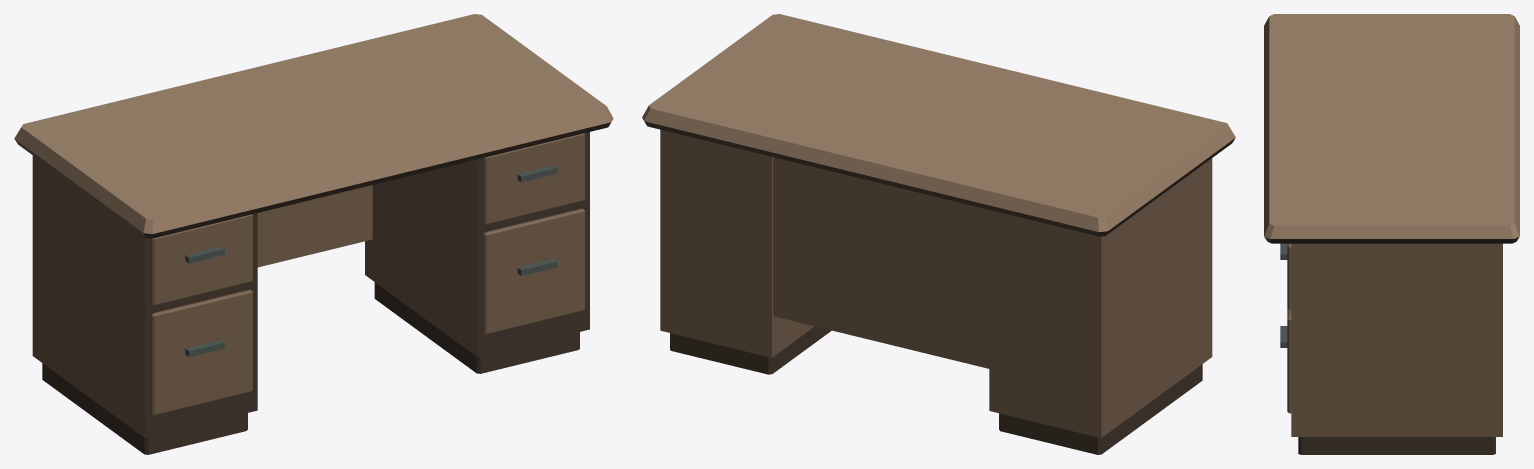
The model's file is Gazette_Editors_Desk.fbx.
3 views of the same model, side by side, from view 1: azimuth 30°, elevation 25°; view 2: azimuth 150°, elevation 25°; view 3: azimuth 270°, elevation 25° (orthographic). The views are drawn at different scales.
Visible parts, largest first — view 1: Gazette_Editors_Desk; view 2: Gazette_Editors_Desk; view 3: Gazette_Editors_Desk.
Boxes of the visible parts, x1,y1,x2,y2 form: Gazette_Editors_Desk: (14, 14, 613, 454); Gazette_Editors_Desk: (642, 14, 1235, 454); Gazette_Editors_Desk: (1264, 14, 1519, 454).
Bounding box in the file's own units: 1.5 × 0.76 × 0.75.
